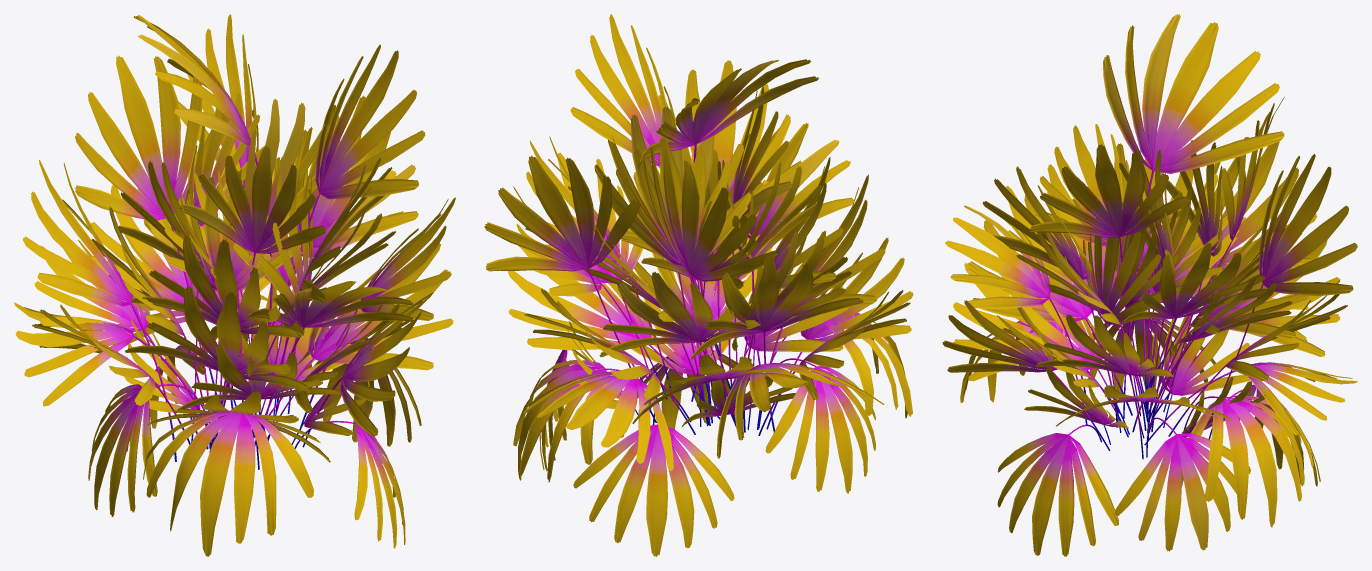
Rendered from Kentia.fbx.
3 views of the same model, side by side, from view 1: azimuth 30°, elevation 25°; view 2: azimuth 150°, elevation 25°; view 3: azimuth 270°, elevation 25° (orthographic). The views are drawn at different scales.
Parts seen in each view (by area): view 1: Kentia; view 2: Kentia; view 3: Kentia.
Part boxes in pixels (x1=…): Kentia: x1=14, y1=14, x2=455, y2=556; Kentia: x1=484, y1=14, x2=913, y2=556; Kentia: x1=942, y1=14, x2=1357, y2=556.
Size of the model in its own units: 903 by 1098 by 903.
